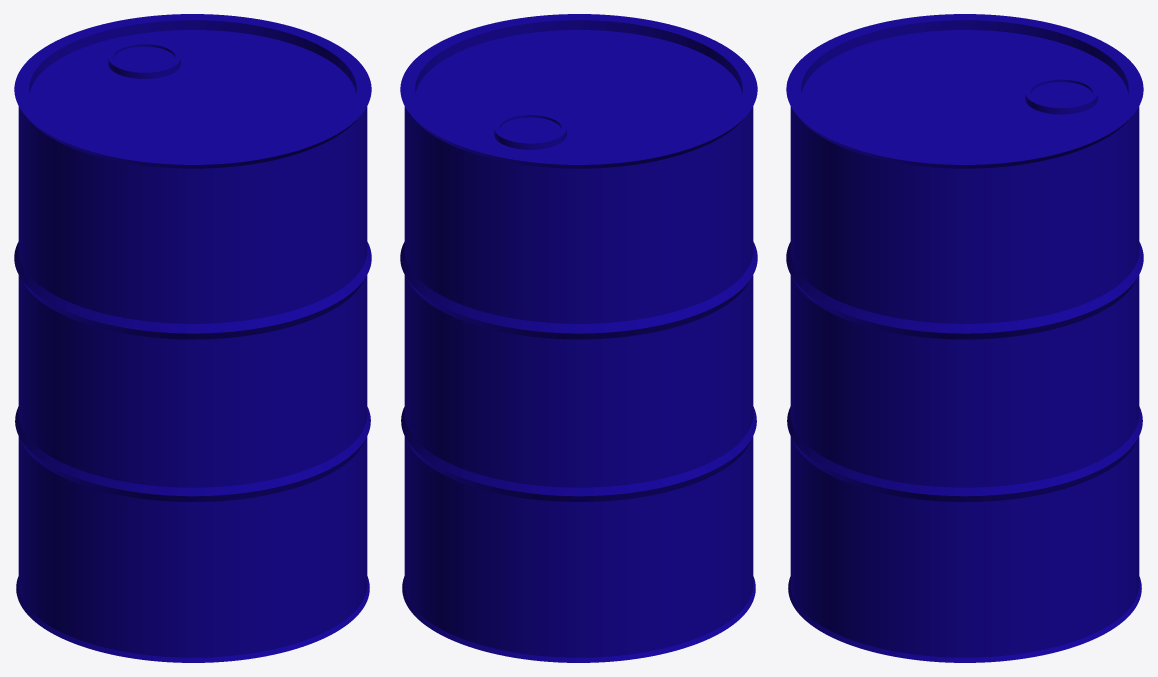
File: blue_barrel.glb
3 renders of one model, left to right at view 1: azimuth 30°, elevation 25°; view 2: azimuth 150°, elevation 25°; view 3: azimuth 270°, elevation 25°, orthographic.
Visible parts, largest first — view 1: Cylinder; view 2: Cylinder; view 3: Cylinder.
Boxes of the visible parts, x1,y1,x2,y2 form: Cylinder: [14, 14, 371, 662]; Cylinder: [400, 14, 757, 662]; Cylinder: [786, 14, 1143, 662].
Bounding box in the file's own units: 2.05 × 3.16 × 2.05.
